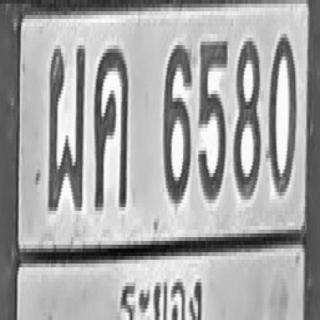A04: (92, 35, 131, 238)
A28: (43, 19, 87, 250), (43, 31, 90, 230)
N00: (268, 18, 298, 211)
N05: (196, 33, 228, 224)
N06: (155, 46, 196, 203)
N08: (229, 32, 264, 219)
P53: (114, 264, 227, 320)
